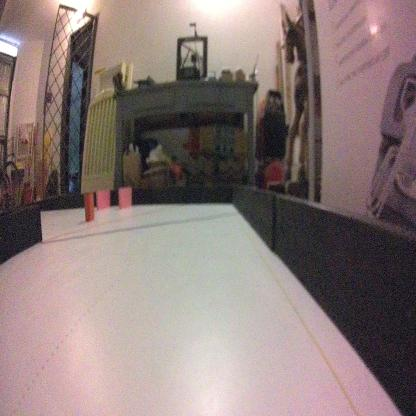magenta: (95, 187, 111, 211), (117, 186, 132, 210)
red: (81, 184, 95, 219)
